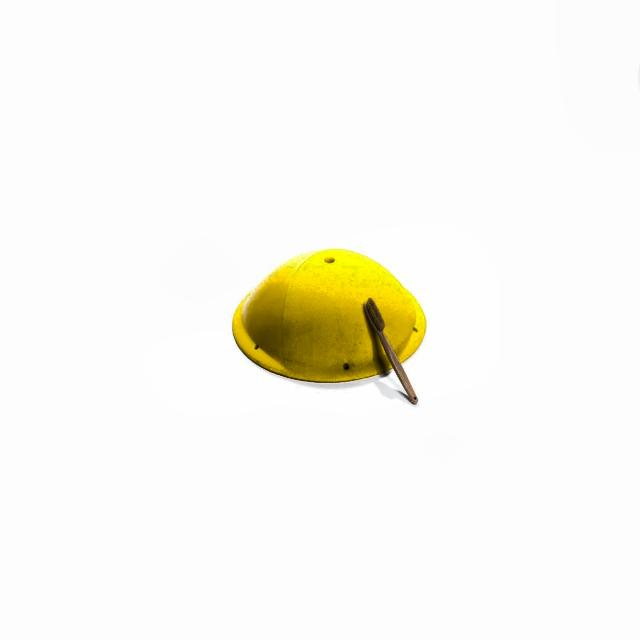Hold: (227, 236, 432, 387)
